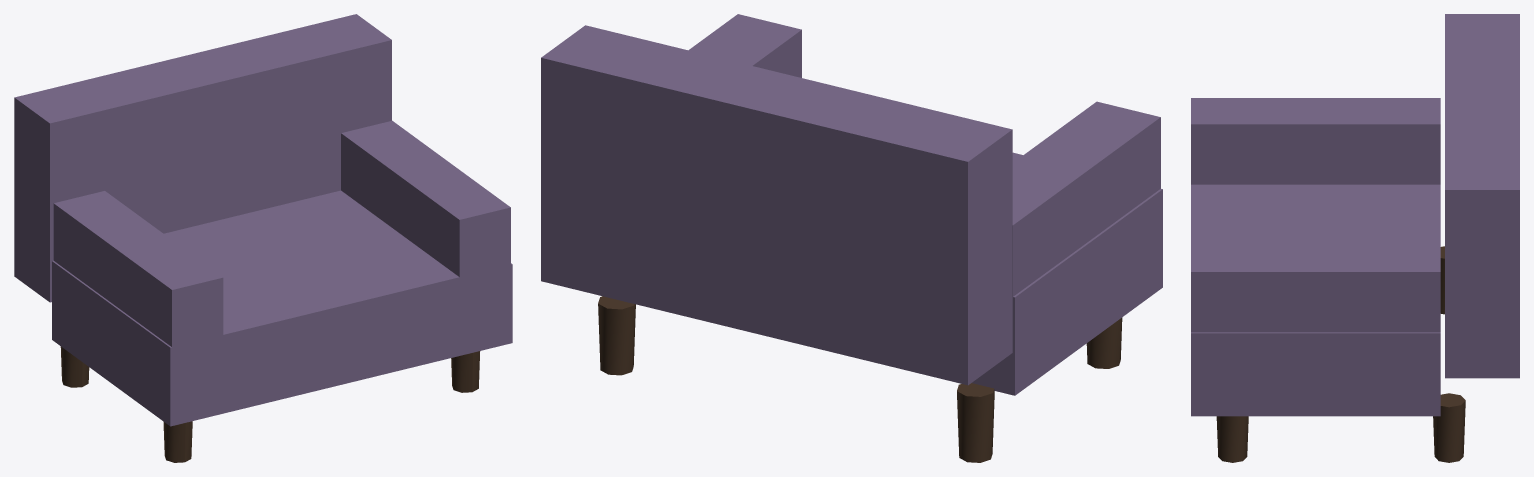
Rendered from sofa.gltf.
The picture shows the model from 3 angles, left to right: view 1: azimuth 30°, elevation 25°; view 2: azimuth 150°, elevation 25°; view 3: azimuth 270°, elevation 25°; orthographic projection. The views are drawn at different scales.
Visible parts, largest first — view 1: seat, back, arm_L, arm_R, leg (×3); view 2: back, arm_L, seat, leg (×3), arm_R; view 3: seat, back, arm_R, arm_L, leg (×3).
Part boxes in pixels (<box>): seat: <box>52,190,512,426</box>; back: <box>14,14,391,302</box>; arm_L: <box>53,191,223,425</box>; arm_R: <box>341,120,510,277</box>; leg (×3): <box>60,346,480,462</box>; back: <box>541,25,1012,385</box>; arm_L: <box>972,101,1160,394</box>; seat: <box>972,152,1162,395</box>; leg (×3): <box>598,296,1122,462</box>; arm_R: <box>689,14,801,77</box>; seat: <box>1191,184,1440,416</box>; back: <box>1445,14,1519,378</box>; arm_R: <box>1191,245,1440,332</box>; arm_L: <box>1191,98,1440,184</box>; leg (×3): <box>1216,246,1465,462</box>.
Bounding box in the file's own units: 1 × 0.745 × 0.79.
